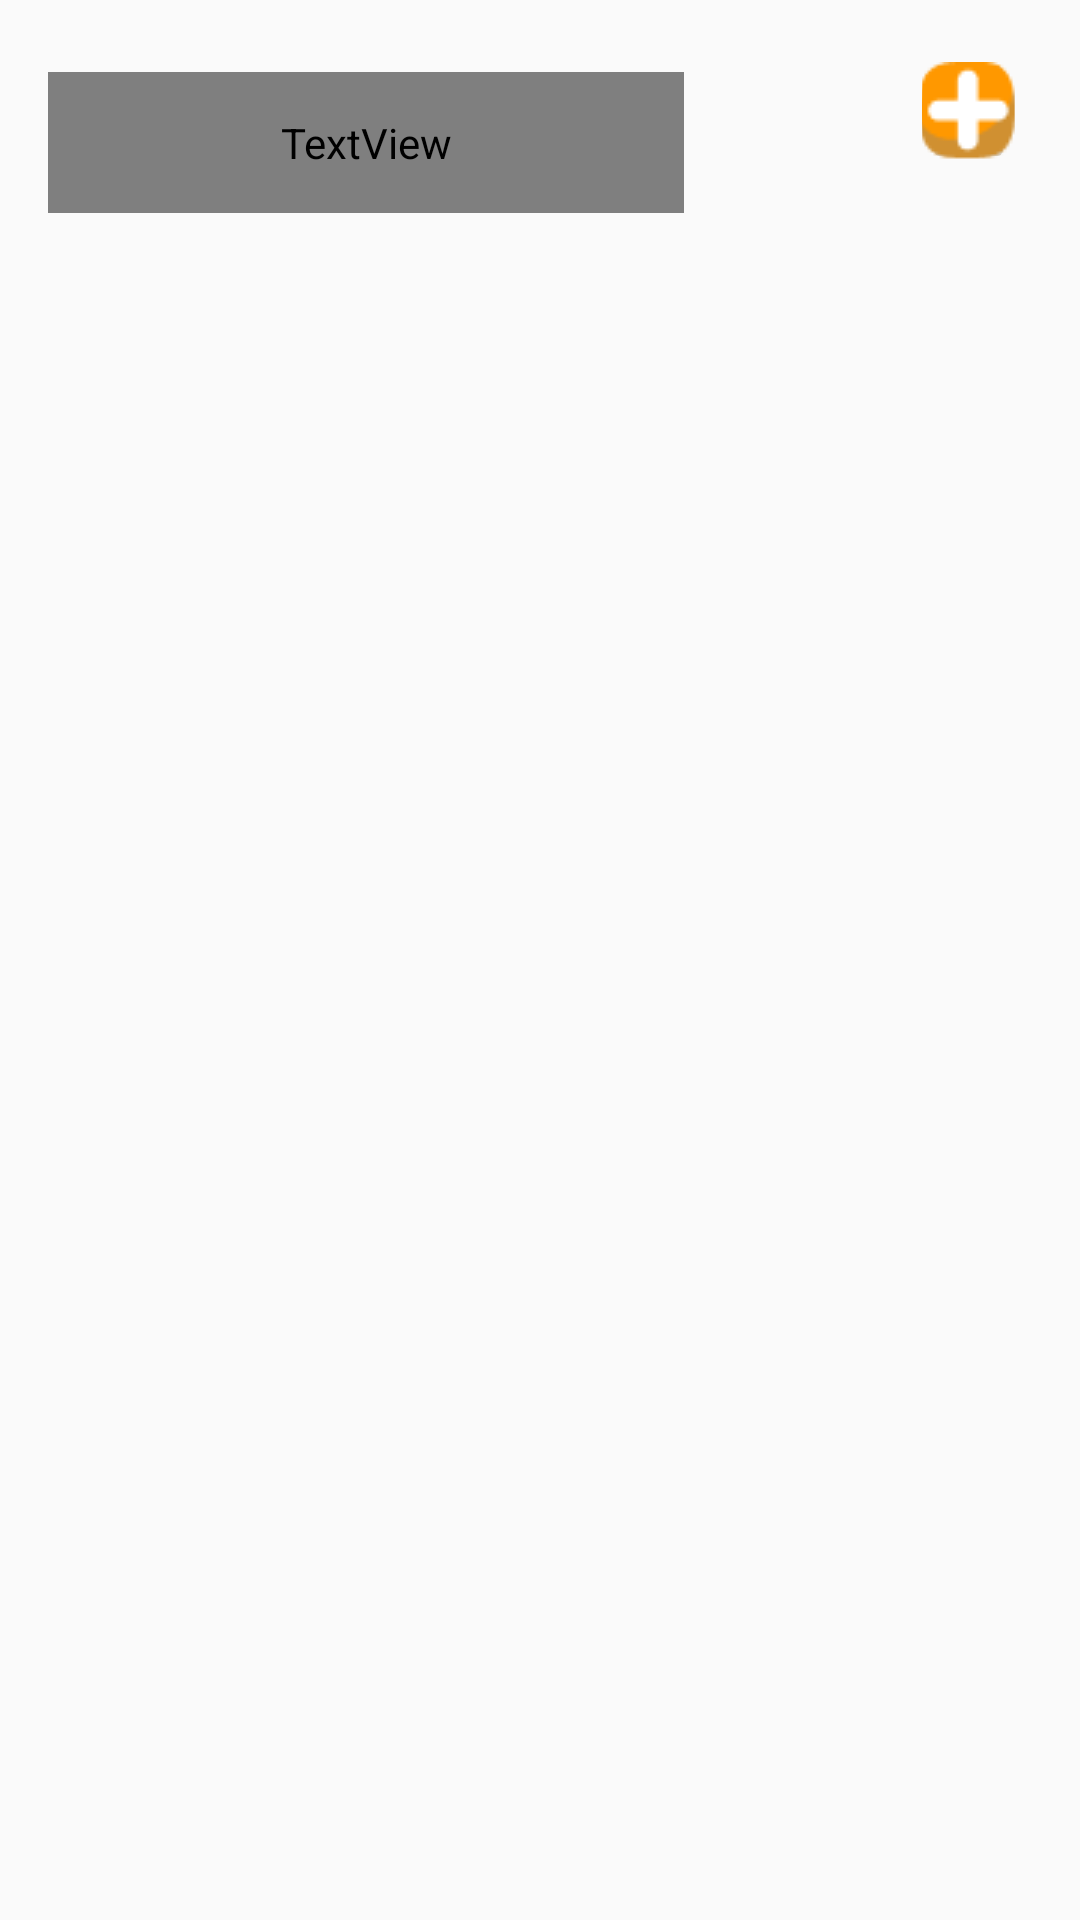

Named icons in this screenshot (1080×1920) and their bounding boxes, (x1, y1, x2, y2):
add: (922, 62, 1015, 159)
